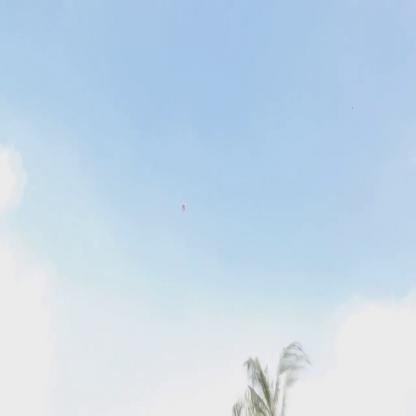drone: (182, 200, 188, 214)
